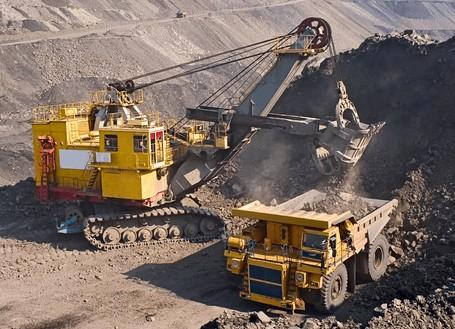ExcavationMachinery: (29, 14, 378, 251), (223, 181, 398, 311), (174, 11, 187, 16)
